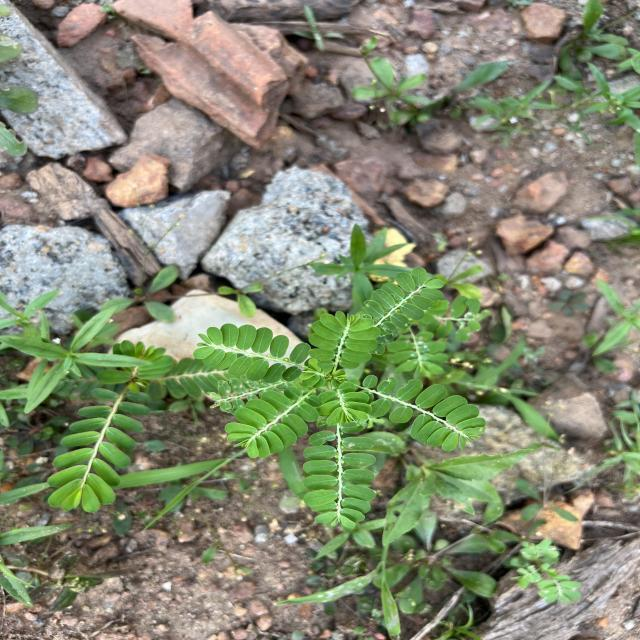Phyllanthus niruri: (45, 400, 156, 514), (357, 374, 489, 453), (301, 423, 378, 531), (221, 382, 319, 460), (190, 321, 310, 384), (363, 264, 446, 342), (306, 308, 384, 372)
